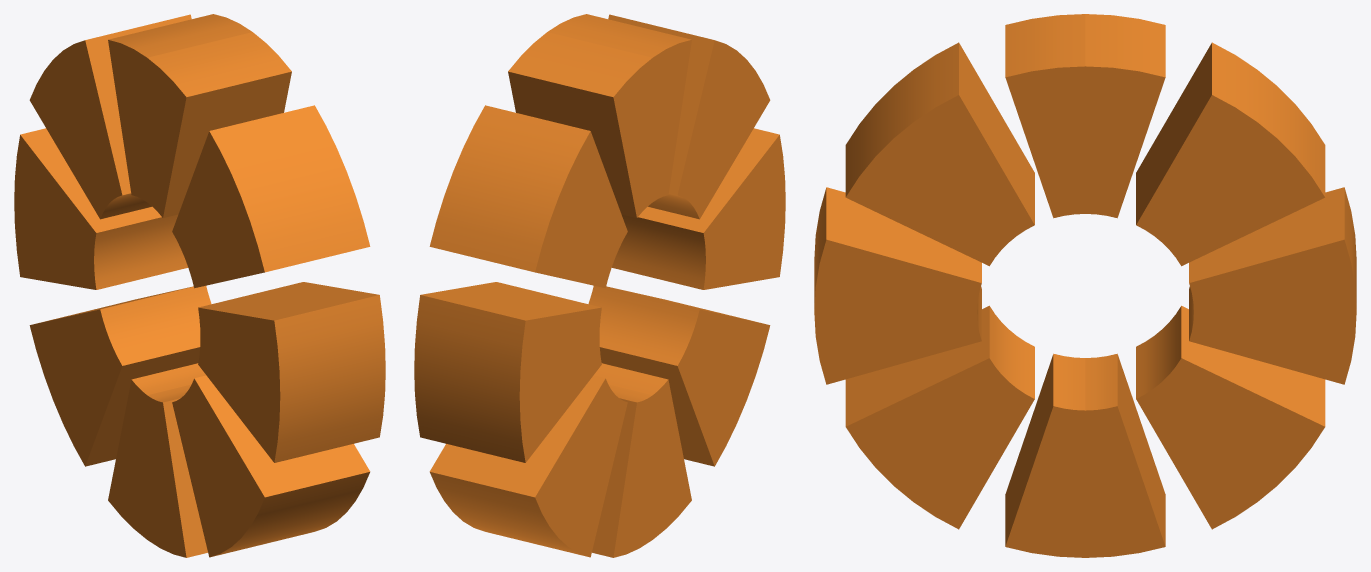
File: torsional_coupling_pressure.glb
3 renders of one model, left to right at view 1: azimuth 30°, elevation 25°; view 2: azimuth 150°, elevation 25°; view 3: azimuth 270°, elevation 25°, orthographic.
Visible parts, largest first — view 1: pressure__front, pressure__back; view 2: pressure__back, pressure__front; view 3: pressure__back, pressure__front.
Part boxes in pixels (x1,y1,x2,y2): pressure__front: (147,32,385,557); pressure__back: (14,14,251,539); pressure__back: (414,32,652,557); pressure__front: (548,14,785,539); pressure__back: (1085,14,1356,557); pressure__front: (814,14,1085,557).
Bounding box in the file's own units: 0.103 × 0.45 × 0.45.
